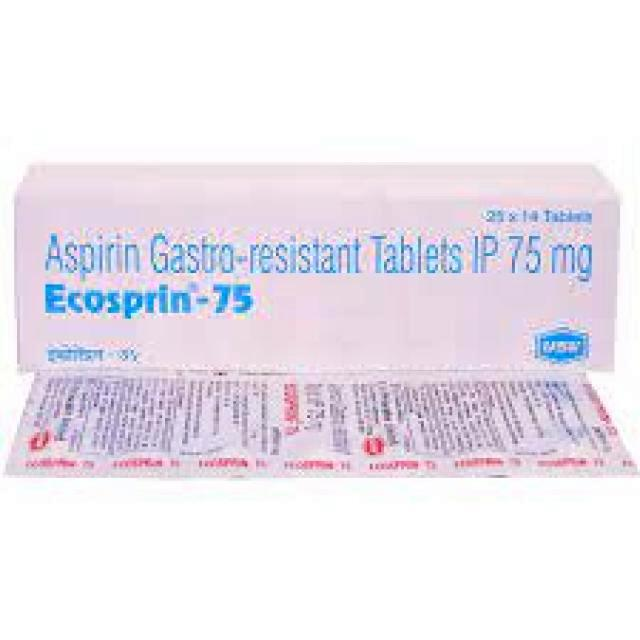authentic: (8, 143, 640, 377), (0, 371, 640, 492)
